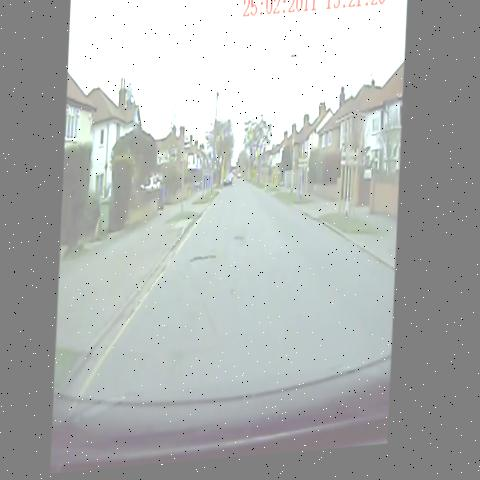pothole: (185, 248, 227, 282), (234, 229, 249, 253)
